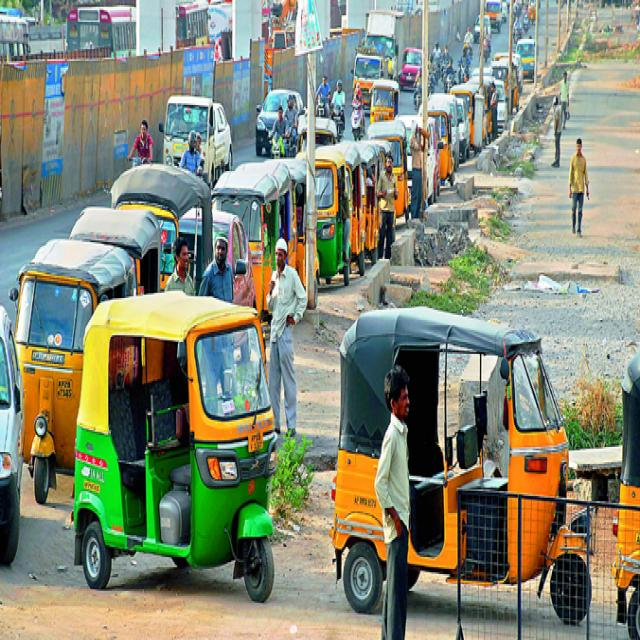autorikshaw: (335, 308, 593, 628), (73, 290, 276, 604), (11, 239, 136, 502), (208, 172, 292, 332), (300, 150, 350, 287), (367, 75, 399, 130)
